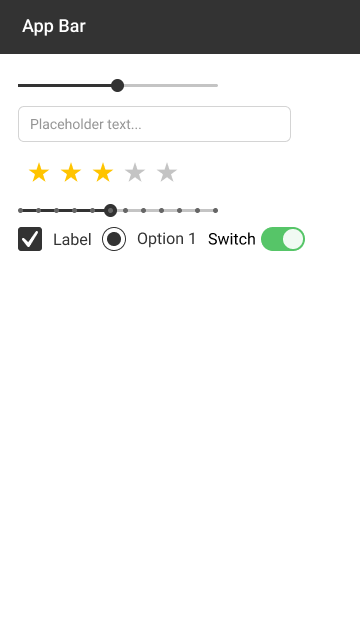checkBox: (16, 226, 97, 252)
editText: (16, 106, 293, 144)
radioButton: (100, 226, 199, 252)
ratingBar: (24, 157, 179, 187)
slider: (13, 202, 222, 219)
slider1: (14, 79, 223, 92)
switch: (206, 226, 307, 252)
toolbar: (1, 1, 360, 54)
